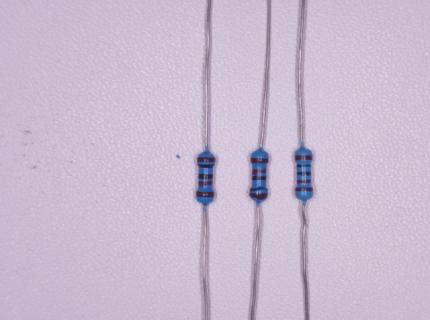Black band: (250, 187, 267, 191), (199, 174, 212, 179), (297, 171, 311, 175), (252, 176, 266, 180), (198, 165, 214, 168), (297, 164, 311, 167)
Brown band: (250, 193, 268, 200), (196, 191, 214, 197), (197, 157, 215, 162), (251, 158, 268, 163), (295, 155, 312, 160), (295, 187, 313, 191)
Red band: (252, 169, 266, 176), (198, 181, 212, 186), (297, 179, 311, 183)
